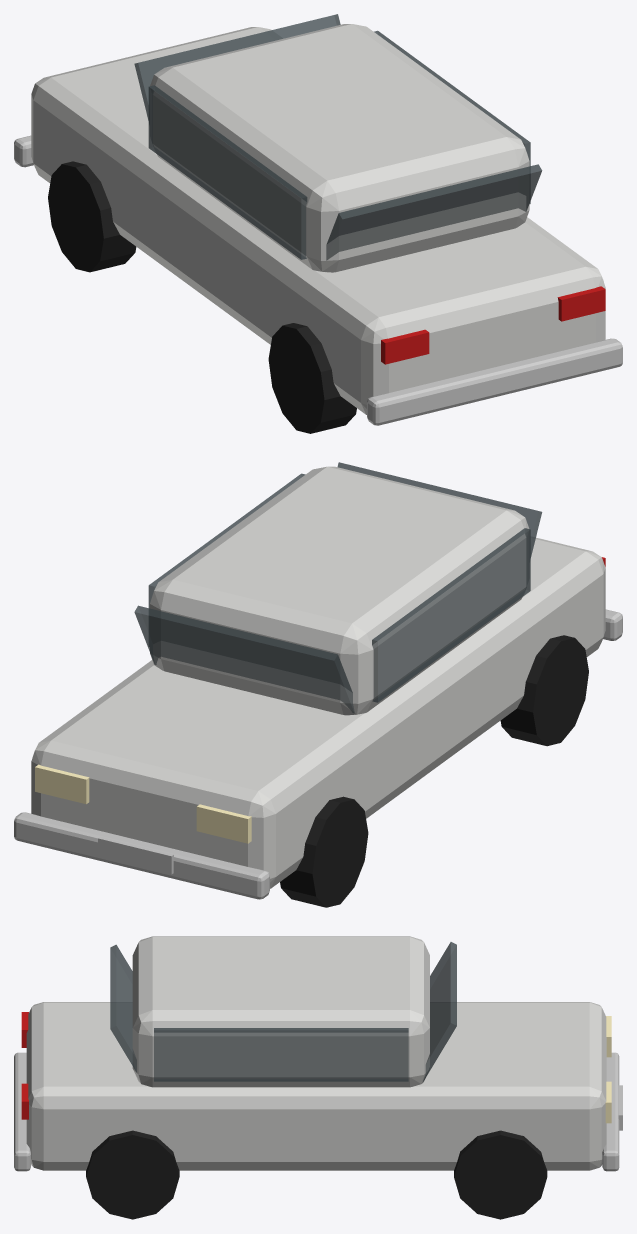
The model's file is oto_b.glb.
The picture shows the model from 3 angles, top to bottom: view 1: azimuth 30°, elevation 25°; view 2: azimuth 150°, elevation 25°; view 3: azimuth 270°, elevation 25°; orthographic projection. The views are drawn at different scales.
Visible parts, largest first — view 1: ArkaCam; view 2: ArkaCam; view 3: ArkaCam.
Boxes of the visible parts, x1=… form: ArkaCam: x1=14, y1=14, x2=622, y2=433; ArkaCam: x1=14, y1=462, x2=622, y2=907; ArkaCam: x1=14, y1=936, x2=622, y2=1219.
Size of the model in its own units: 0.36 by 0.3 by 0.861.
